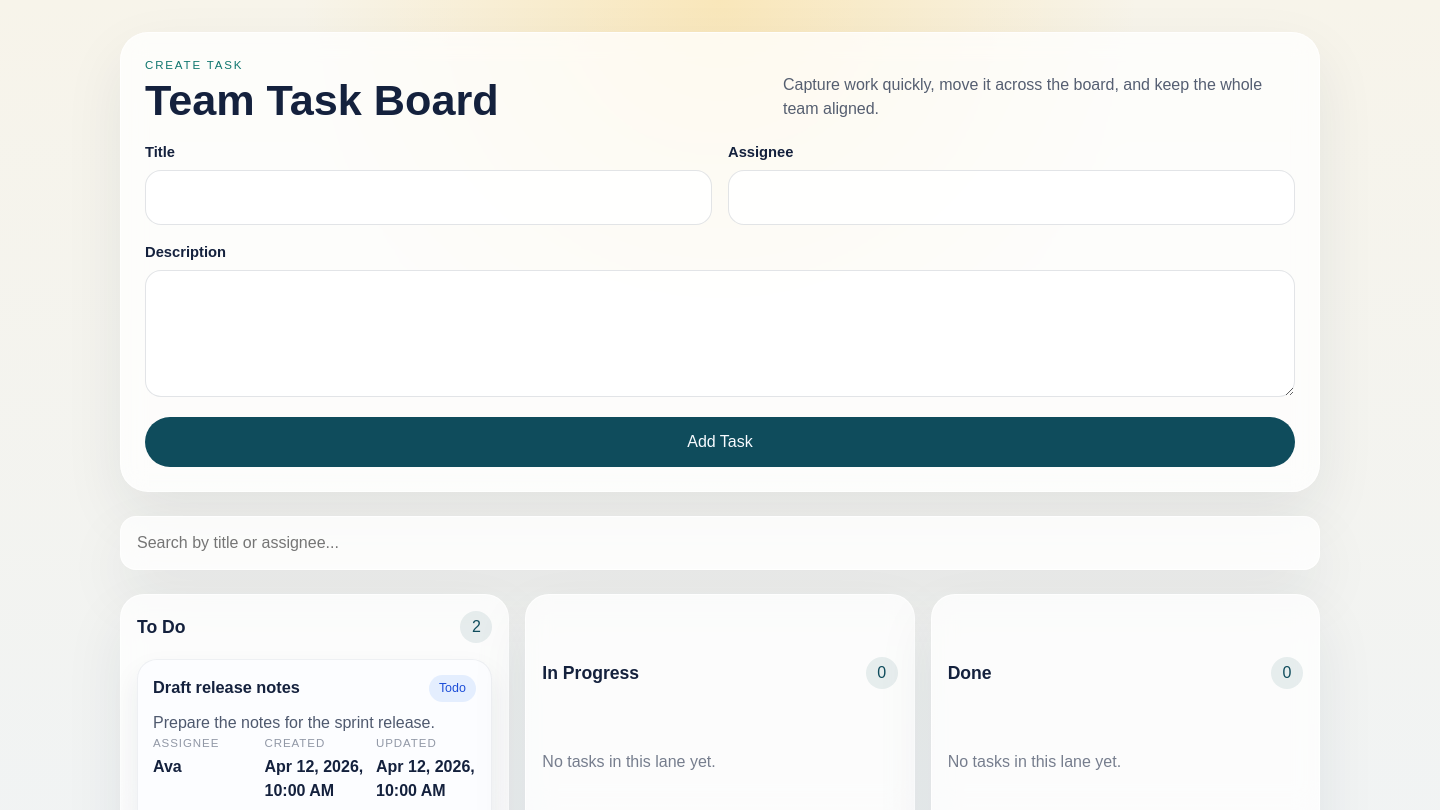
Test: App › filters tasks by assignee in real time
Type "mia" into the search field named "Search tasks".
click(720, 543); type("mia")  # box [120,516,1320,570]
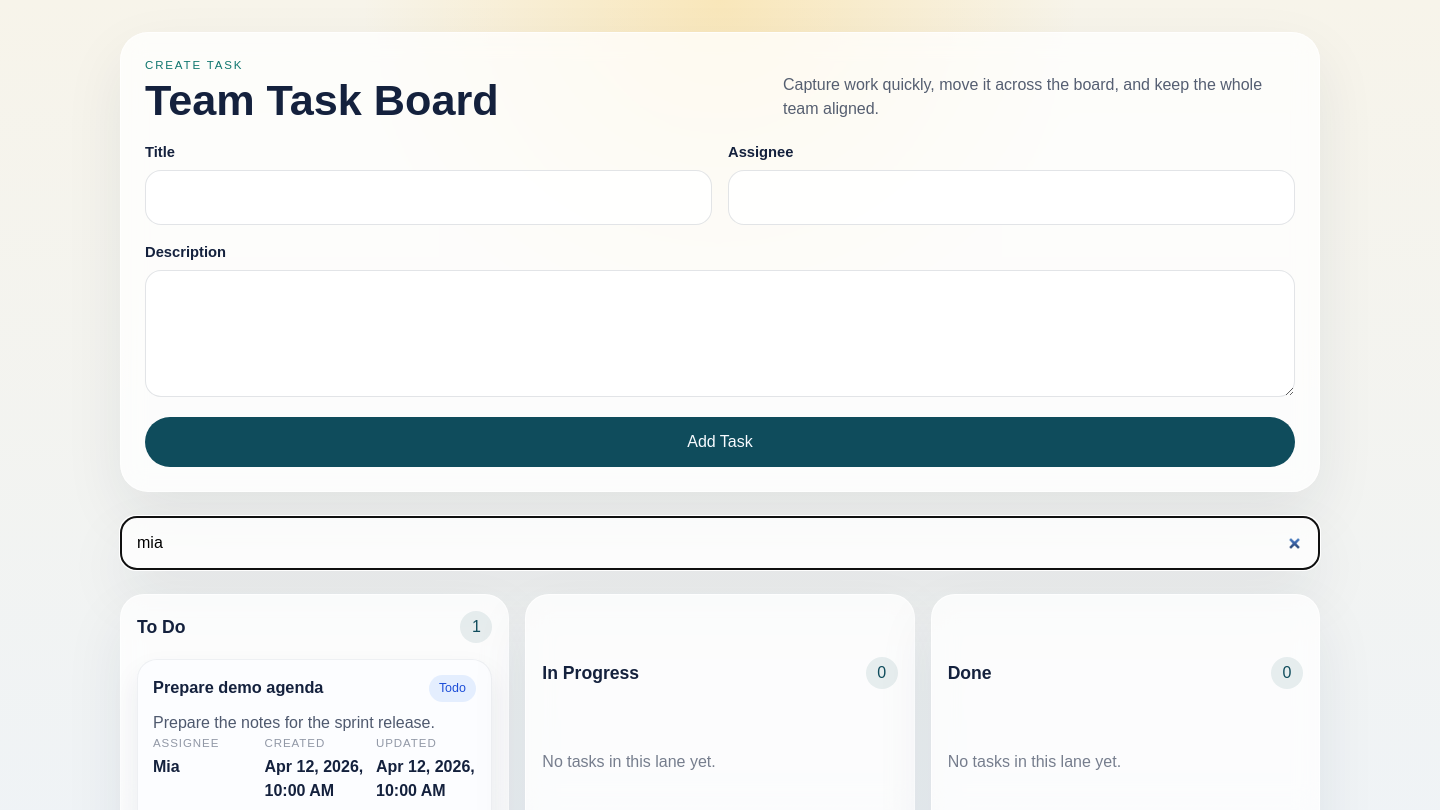
Expected: the heading "Prepare demo agenda" is shown, [153,675,323,700]
Expected: the heading "Draft release notes" is gone
